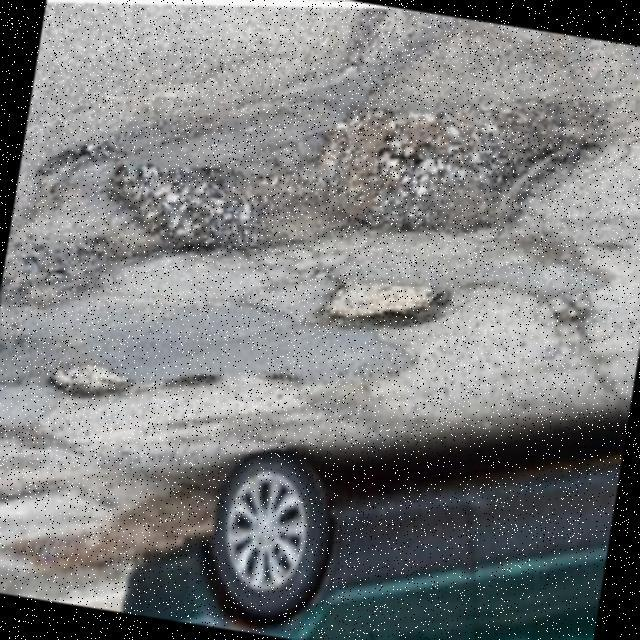Pothole: (106, 101, 600, 260), (329, 279, 451, 329), (48, 365, 126, 393)
